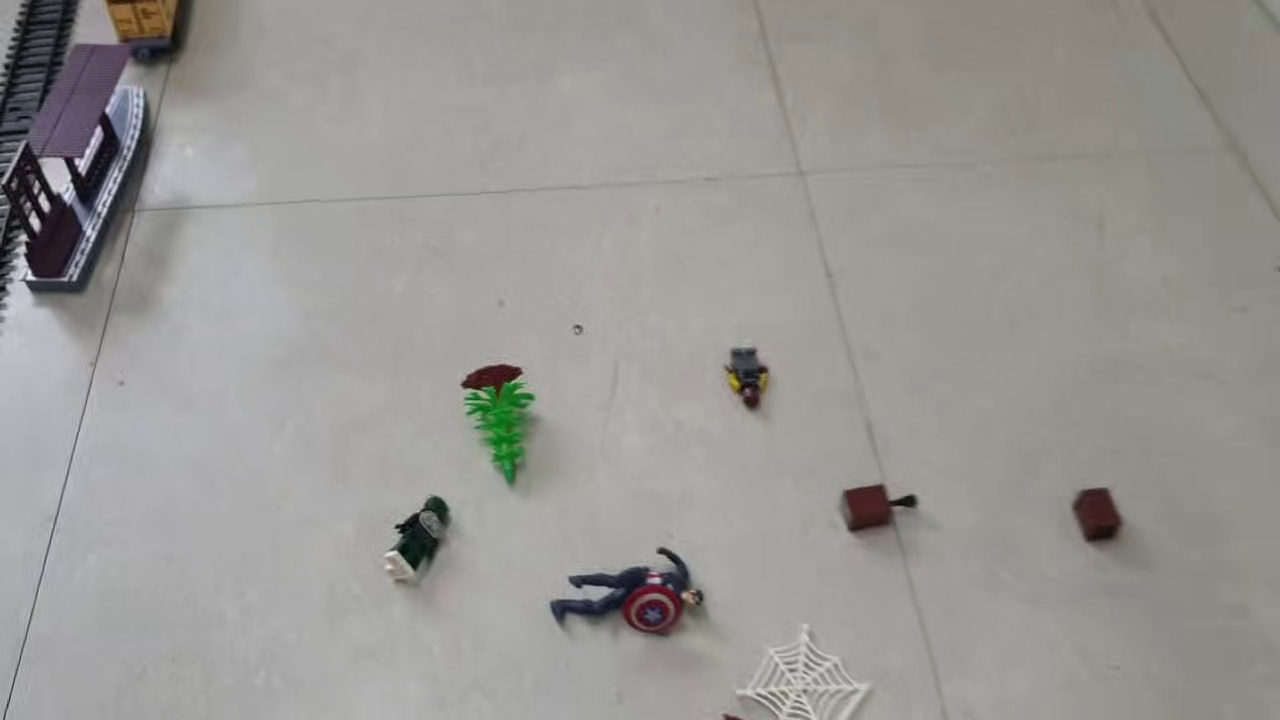box: (1068, 483, 1125, 550), (836, 482, 895, 536)
people: (546, 546, 707, 637), (384, 493, 456, 590), (719, 342, 778, 412)
tree: (457, 360, 542, 491)
web: (733, 622, 876, 720)
